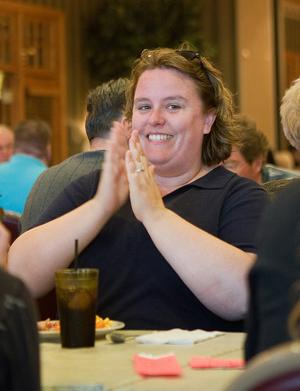person: (9, 48, 276, 332)
